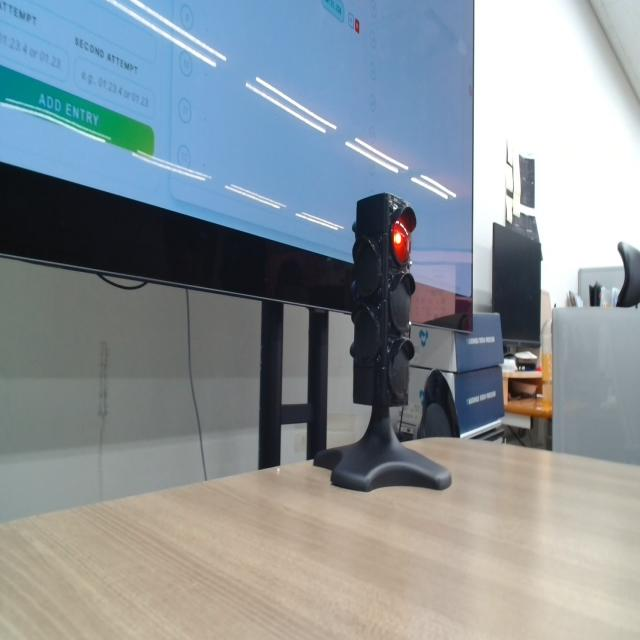red_light: (392, 220, 410, 264)
